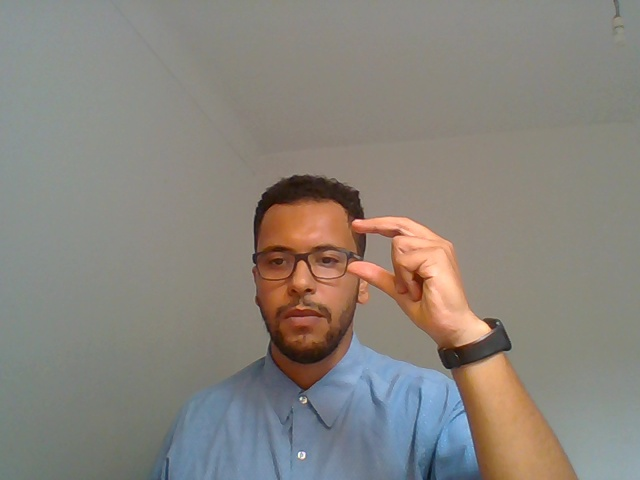no: (341, 193, 511, 417)
